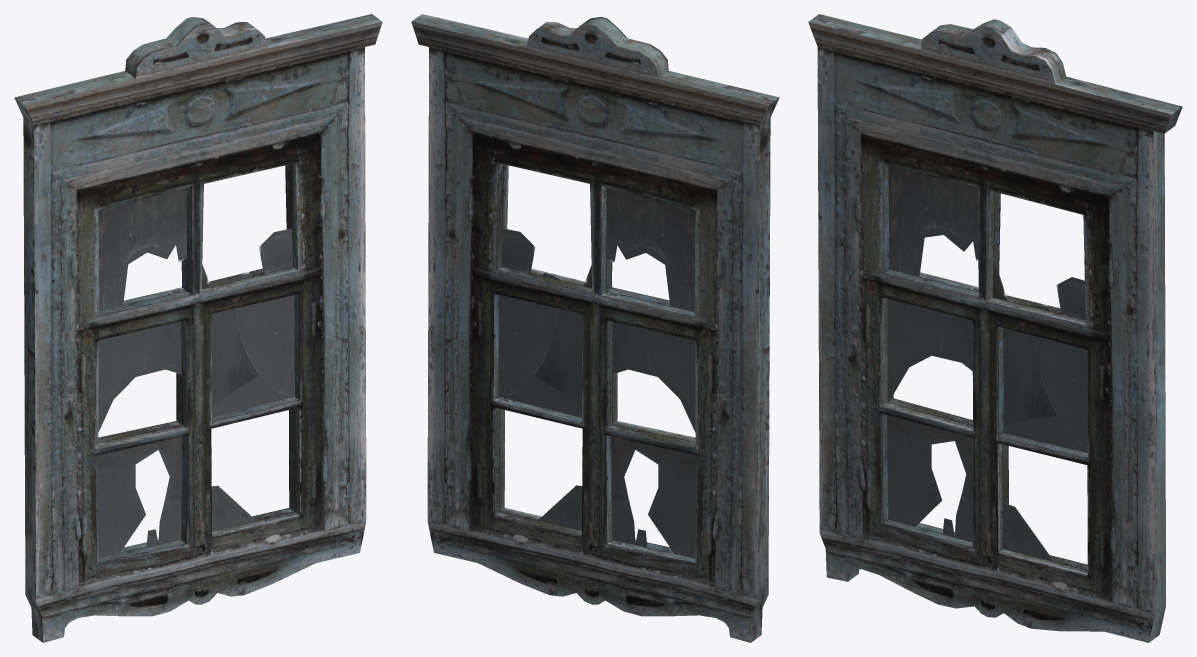
File: Windows_08.fbx
The picture shows the model from 3 angles, left to right: view 1: azimuth 30°, elevation 25°; view 2: azimuth 150°, elevation 25°; view 3: azimuth 330°, elevation 25°; orthographic projection.
Parts seen in each view (by area): view 1: Windows_08, Windows_08glass (×6); view 2: Windows_08, Windows_08glass (×6); view 3: Windows_08, Windows_08glass (×6).
Part boxes in pixels (left/top/right/bottom): Windows_08: left=14, top=14, right=382, bottom=642; Windows_08glass (×6): left=97, top=188, right=294, bottom=557; Windows_08: left=411, top=14, right=779, bottom=642; Windows_08glass (×6): left=499, top=187, right=696, bottom=557; Windows_08: left=808, top=14, right=1182, bottom=642; Windows_08glass (×6): left=887, top=167, right=1087, bottom=561.
Bounding box in the file's own units: 139 × 7.26 × 216.
2 materials, 2 textured.
